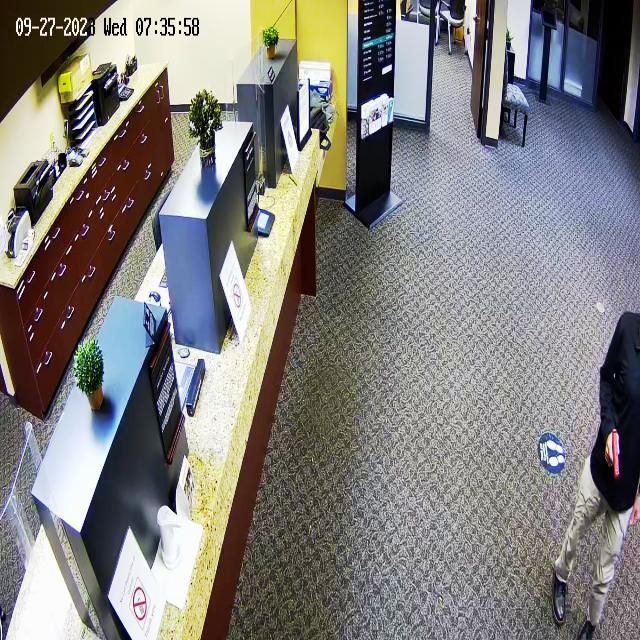Gun: (589, 414, 623, 489)
